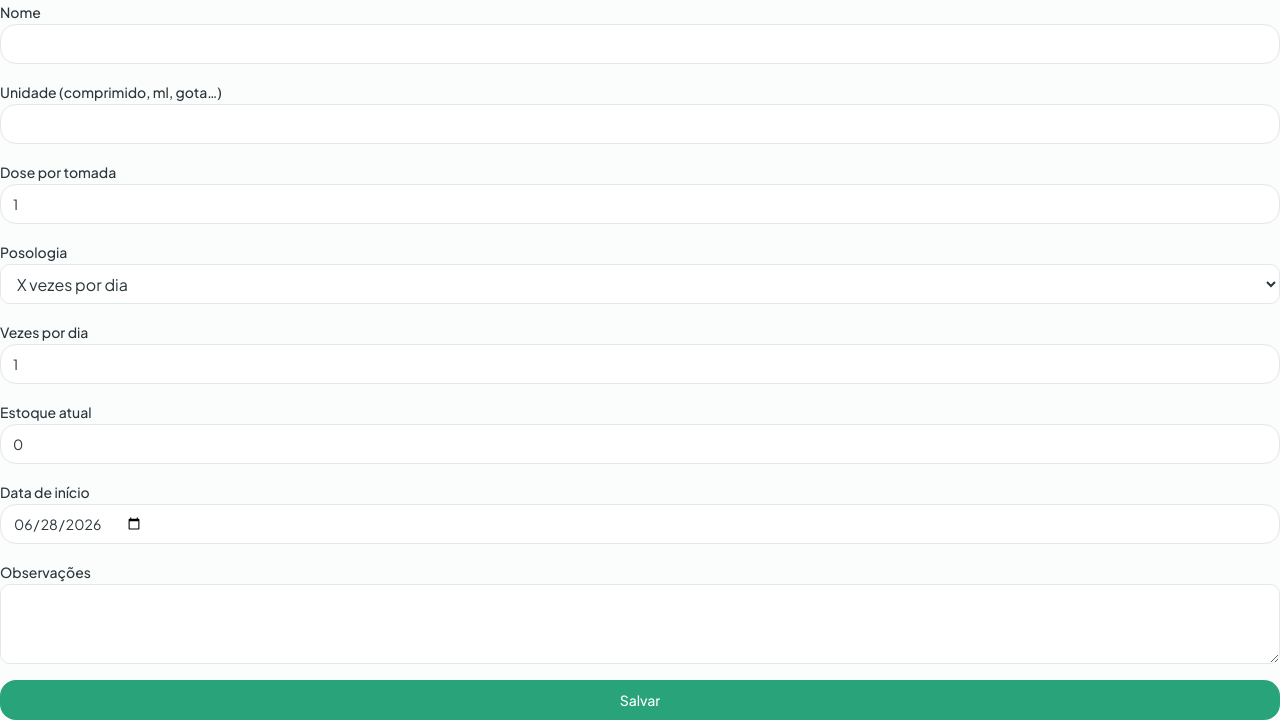
it: MedicationForm › exige o nome
Click the button "Salvar".
click(640, 700)  # box [0,680,1279,719]
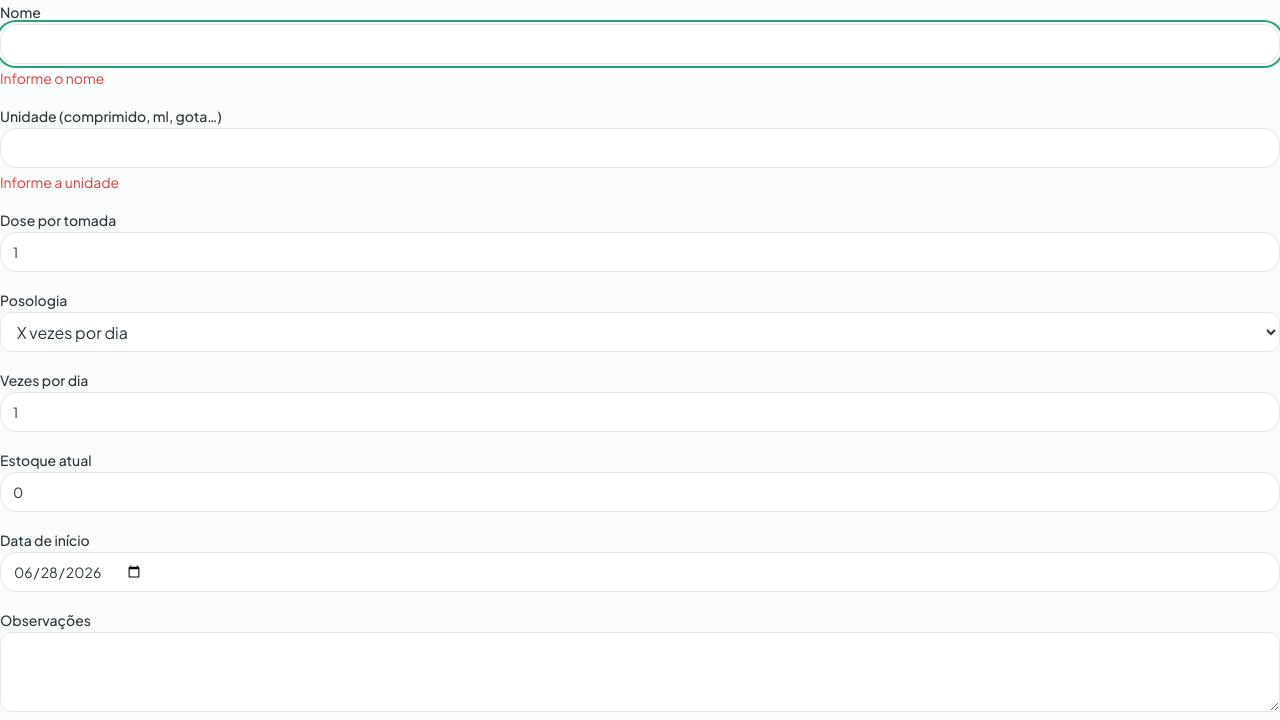
Now the text "Informe o nome" is shown, box [0,69,104,87]
